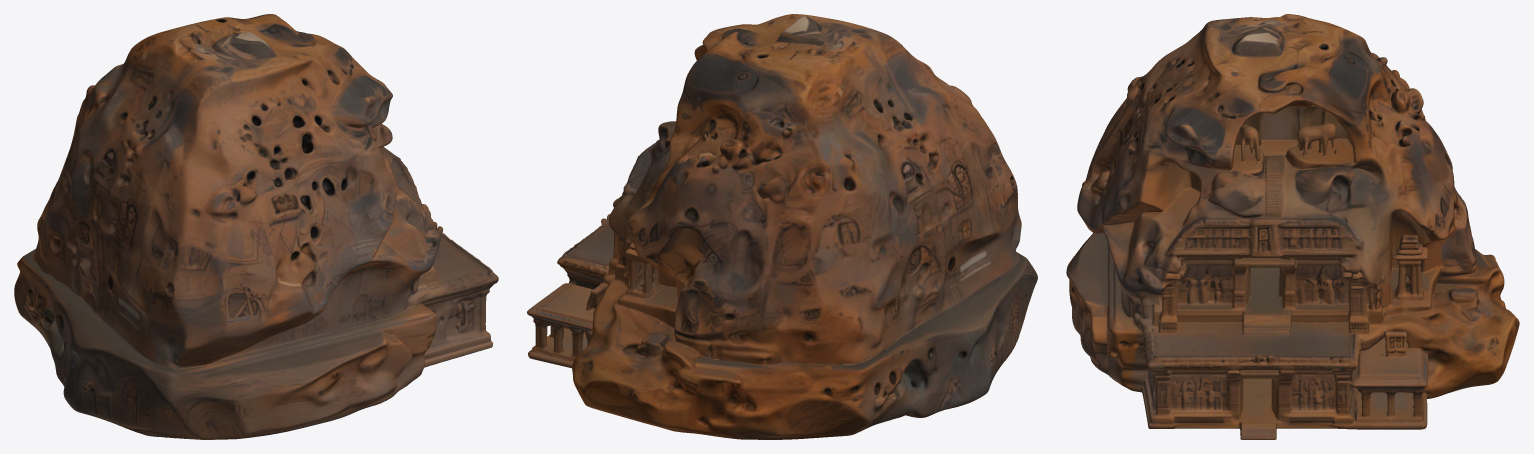
File: udayagiri_khandagiri.glb
The picture shows the model from 3 angles, left to right: view 1: azimuth 30°, elevation 25°; view 2: azimuth 150°, elevation 25°; view 3: azimuth 270°, elevation 25°; orthographic projection. The views are drawn at different scales.
Parts seen in each view (by area): view 1: tripo_node_aaed6e61-7f86-4ca9-981f-461c10a7ab90; view 2: tripo_node_aaed6e61-7f86-4ca9-981f-461c10a7ab90; view 3: tripo_node_aaed6e61-7f86-4ca9-981f-461c10a7ab90.
Boxes of the visible parts, x1,y1,x2,y2 form: tripo_node_aaed6e61-7f86-4ca9-981f-461c10a7ab90: [14, 14, 498, 439]; tripo_node_aaed6e61-7f86-4ca9-981f-461c10a7ab90: [527, 14, 1037, 439]; tripo_node_aaed6e61-7f86-4ca9-981f-461c10a7ab90: [1066, 14, 1519, 439].
Bounding box in the file's own units: 0.9501 × 0.78 × 1.
Materials: 1 (1 with a texture image).
